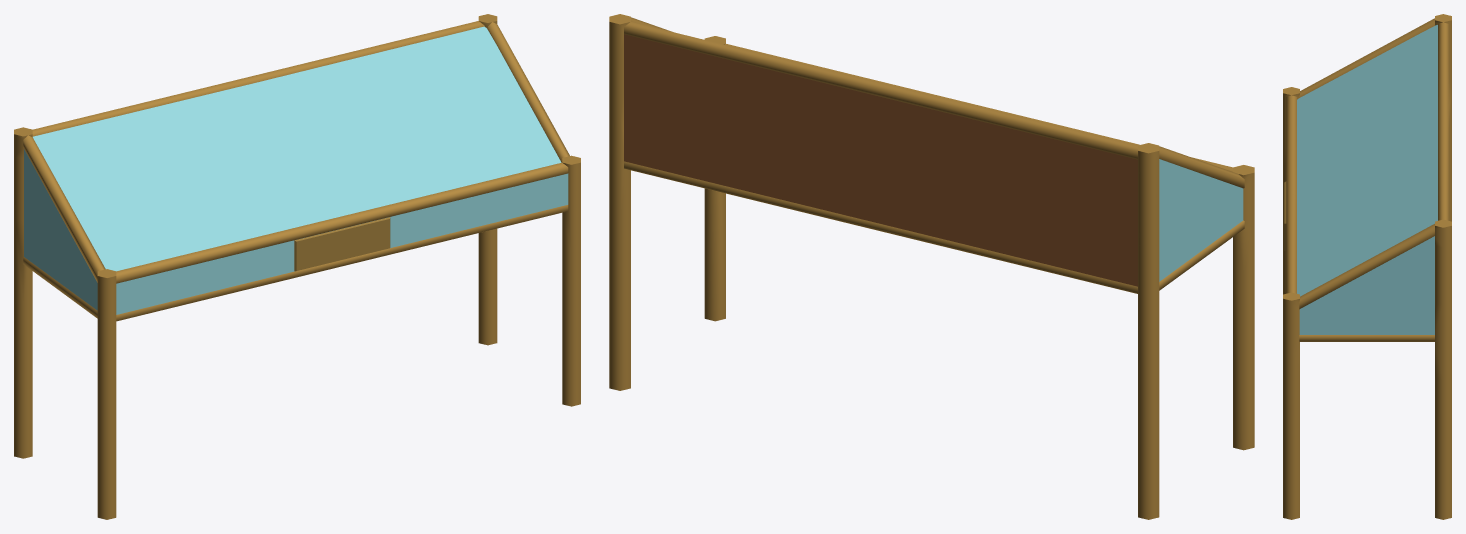
File: CI_119_127_128_book_glass_cabinet.glb
3 renders of one model, left to right at view 1: azimuth 30°, elevation 25°; view 2: azimuth 150°, elevation 25°; view 3: azimuth 270°, elevation 25°, orthographic. The views are drawn at different scales.
Visible parts, largest first — view 1: glass, legs_frame, front, side, nameplate; view 2: back, legs_frame, side; view 3: glass, legs_frame, side, nameplate.
Part boxes in pixels (x1,y1,x2,y2): glass: (33, 26, 561, 271); legs_frame: (14, 14, 580, 519); front: (116, 173, 568, 314); side: (24, 149, 97, 310); nameplate: (294, 217, 390, 271); back: (624, 34, 1137, 286); legs_frame: (609, 14, 1254, 519); side: (1159, 159, 1243, 281); glass: (1297, 25, 1437, 296); legs_frame: (1283, 14, 1451, 519); side: (1299, 236, 1434, 334); nameplate: (1284, 181, 1286, 251).
Size of the model in its own units: 2.25 by 1.43 by 0.7503.
